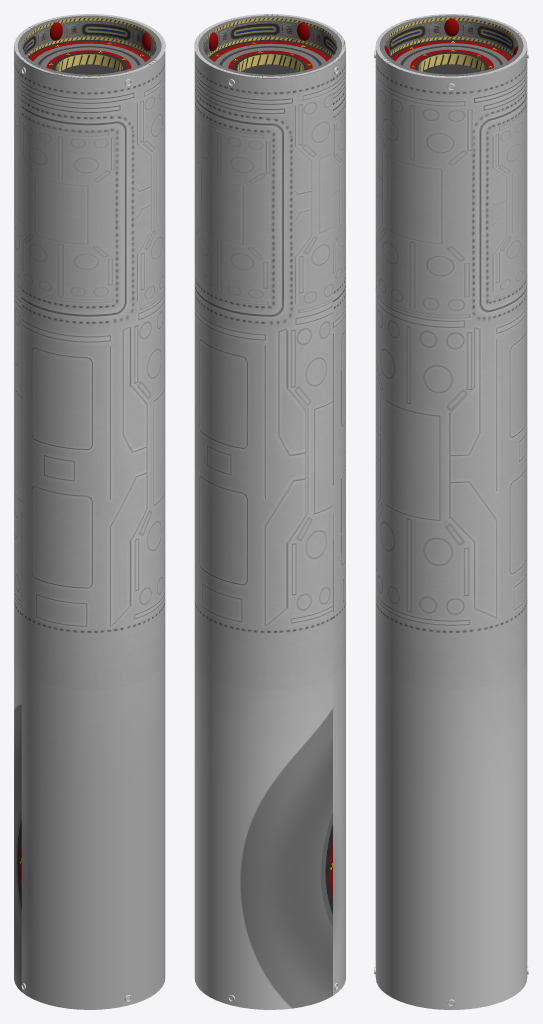
Rendered from BFR4tank.fbx.
3 views of the same model, side by side, from view 1: azimuth 30°, elevation 25°; view 2: azimuth 150°, elevation 25°; view 3: azimuth 270°, elevation 25° (orthographic).
Parts seen in each view (by area): view 1: Cylinder.004, Cylinder.000; view 2: Cylinder.004, Cylinder.000; view 3: Cylinder.004, Cylinder.000.
Boxes of the visible parts, x1=… form: Cylinder.004: x1=14, y1=14, x2=165, y2=1009; Cylinder.000: x1=17, y1=15, x2=161, y2=78; Cylinder.004: x1=194, y1=14, x2=345, y2=1009; Cylinder.000: x1=198, y1=15, x2=342, y2=78; Cylinder.004: x1=375, y1=14, x2=527, y2=1009; Cylinder.000: x1=379, y1=15, x2=523, y2=76.
Size of the model in its own units: 798 by 5312 by 798.
